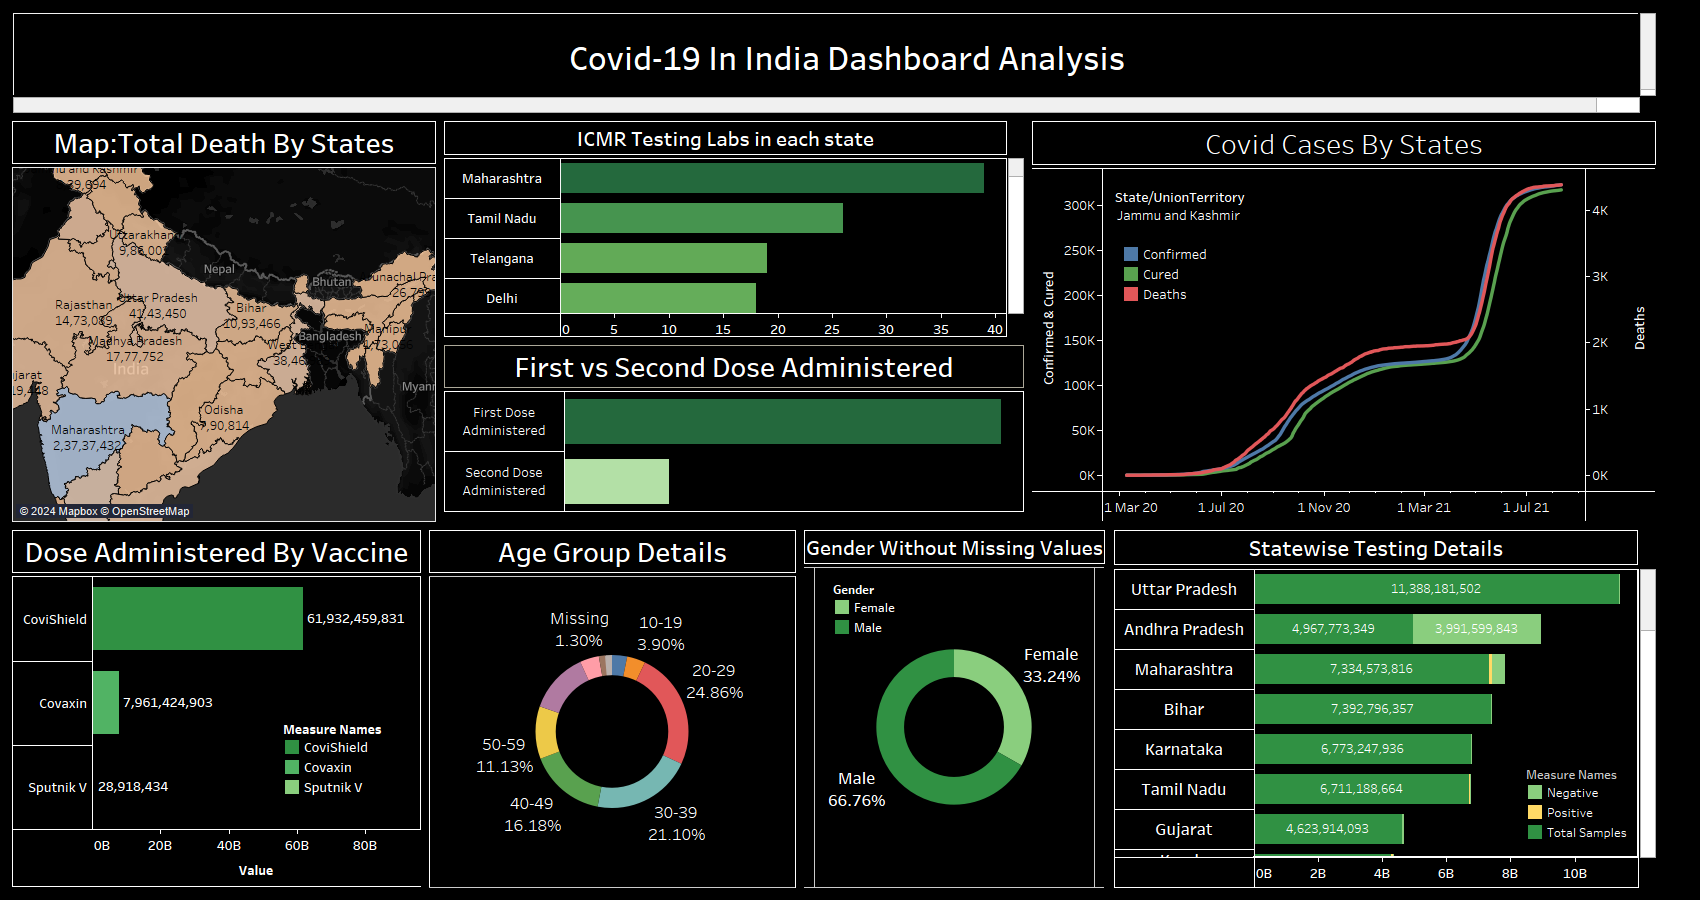

This screenshot's page, from the dashboard's own definition file:
{"tool":"tableau","page":{"name":"Dashboard 1","canvas":[1700,900],"ordinal":0},"visuals":[{"type":"worksheet","title":"TITlE","mark":"Automatic","box":[8,8,1652,109]},{"type":"worksheet","title":"Map Total Death By States","mark":"Automatic","box":[8,117,432,409]},{"type":"worksheet","title":"ICMR Testing Labs in each state","mark":"Automatic","rows":["state"],"cols":["lab"],"box":[440,117,588,224]},{"type":"worksheet","title":"Covid Cases By States","mark":"Automatic","rows":["Deaths"],"cols":["Date"],"box":[1028,117,632,409]},{"type":"filter","title":"Covid Cases By States","param":"[federated.1v7v55313x3leo0ztpwr8188ctkr].[none:State/UnionTerritory:nk]","box":[1115,187,177,50]},{"type":"legend","title":"Covid Cases By States","param":"[federated.1v7v55313x3leo0ztpwr8188ctkr].[:Measure Names]","box":[1121,244,95,72]},{"type":"worksheet","title":"First vs Second Dose Administered  ","mark":"Automatic","box":[440,341,588,185]},{"type":"worksheet","title":"Dose Administered By Vaccine","mark":"Automatic","box":[8,526,417,366]},{"type":"worksheet","title":"Age Group Details","mark":"Pie","rows":["Calculation_2098395982624018434","Calculation_2098395982624018434"],"box":[425,526,375,366]},{"type":"worksheet","title":"Gender Without Missing Values","mark":"Pie","rows":["Calculation_2142587554180050945","Calculation_2142587554180050945"],"box":[800,526,309.3,366]},{"type":"worksheet","title":"Statewise Testing Details","mark":"Automatic","rows":["State"],"box":[1109.3,526,550.7,366]},{"type":"legend","title":"Gender Without Missing Values","param":"[federated.1jnv2ud13njfv51gf18s91eynrxx].[none:gender:nk]","box":[832,579,140,58]},{"type":"legend","title":"Dose Administered By Vaccine","param":"[federated.12b6wxs0uj1l25107k2ua1qq8qv8].[:Measure Names]","box":[282,718,140,112]},{"type":"legend","title":"Statewise Testing Details","param":"[federated.0b1rm1p0fffto0161u78v1hr2kj1].[:Measure Names]","box":[1525,764,118,90]}]}

Visuals, with their boxes in screenshot pixels (x1, y1, x2, y2), scaled from the page's 1700x900 canvas onto the 1700x900 screenshot:
"TITlE" worksheet: left=8, top=8, right=1660, bottom=117
"Map Total Death By States" worksheet: left=8, top=117, right=440, bottom=526
"ICMR Testing Labs in each state" worksheet: left=440, top=117, right=1028, bottom=341
"Covid Cases By States" worksheet: left=1028, top=117, right=1660, bottom=526
"Covid Cases By States" filter: left=1115, top=187, right=1292, bottom=237
"Covid Cases By States" legend: left=1121, top=244, right=1216, bottom=316
"First vs Second Dose Administered  " worksheet: left=440, top=341, right=1028, bottom=526
"Dose Administered By Vaccine" worksheet: left=8, top=526, right=425, bottom=892
"Age Group Details" worksheet (Pie marks): left=425, top=526, right=800, bottom=892
"Gender Without Missing Values" worksheet (Pie marks): left=800, top=526, right=1109, bottom=892
"Statewise Testing Details" worksheet: left=1109, top=526, right=1660, bottom=892
"Gender Without Missing Values" legend: left=832, top=579, right=972, bottom=637
"Dose Administered By Vaccine" legend: left=282, top=718, right=422, bottom=830
"Statewise Testing Details" legend: left=1525, top=764, right=1643, bottom=854
